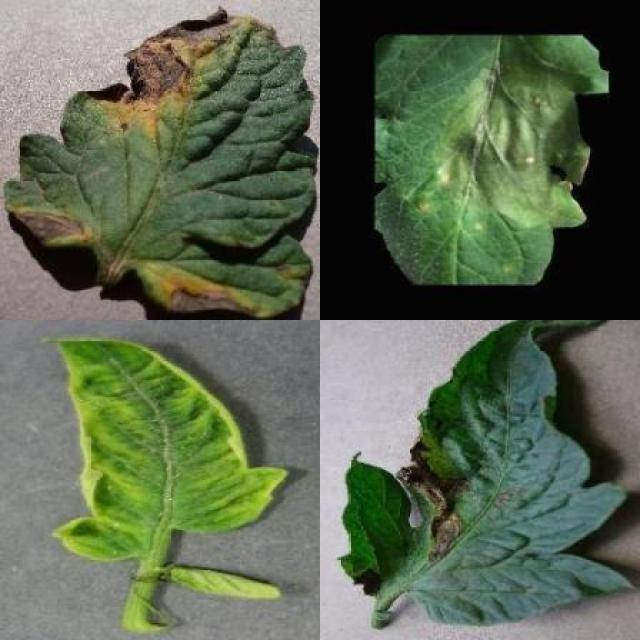Early Blight: (5, 7, 318, 320), (340, 319, 637, 626)
Late Blight: (374, 35, 606, 285)
Yellow Leaf Curl Virus: (47, 334, 289, 560), (173, 566, 280, 604)
